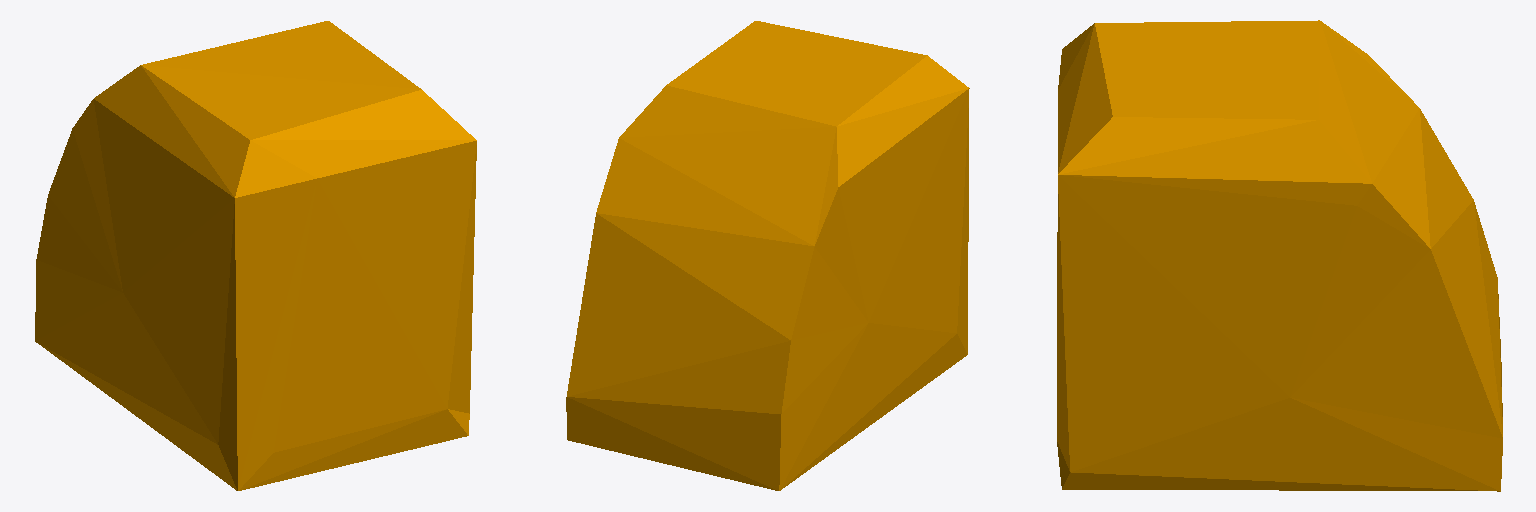
robot.urdf — object:
<?xml version="1.0" ?>
  <robot name="object">
    <link name="body">
      <inertial>
        <origin xyz="0.0 0.0 0.0" rpy="0.0 0.0 0.0"/>
        <mass value="0.1"/>
        <inertia ixx="1.5862757990492545e-08" ixy="1.7252301013939614e-11" ixz="-1.0429592825242685e-12" iyy="1.1863654053664497e-08" iyz="1.4859905749867005e-09" izz="1.2930075405713537e-08" />
      </inertial>
      <visual name="visual">
        <geometry>
          <mesh filename="cvx_ylego.stl"/>
        </geometry>
      </visual>
      <collision name="box_01_geom">
        <geometry>
          <mesh filename="cvx_ylego.stl"/>
        </geometry>
      </collision>
    </link>
  </robot>

--- Facts derived from the render (not from the file) ---
The picture shows the robot from 3 angles, left to right: view 1: azimuth 30°, elevation 25°; view 2: azimuth 150°, elevation 25°; view 3: azimuth 270°, elevation 25°; orthographic projection.
Robot: object — 1 links, 0 joints (none); root link body; default pose: all joints at 0.
Links seen in each view (by area): view 1: body; view 2: body; view 3: body.
Boxes of the visible links, bbox=[...] form: body: bbox=[35, 21, 476, 490]; body: bbox=[566, 21, 969, 490]; body: bbox=[1057, 20, 1502, 491].
Bounding box of the posed robot: 0.0321 × 0.0476 × 0.0425 m (x, y, z).
1 mesh visuals loaded from 1 distinct referenced files (1 binary STL).